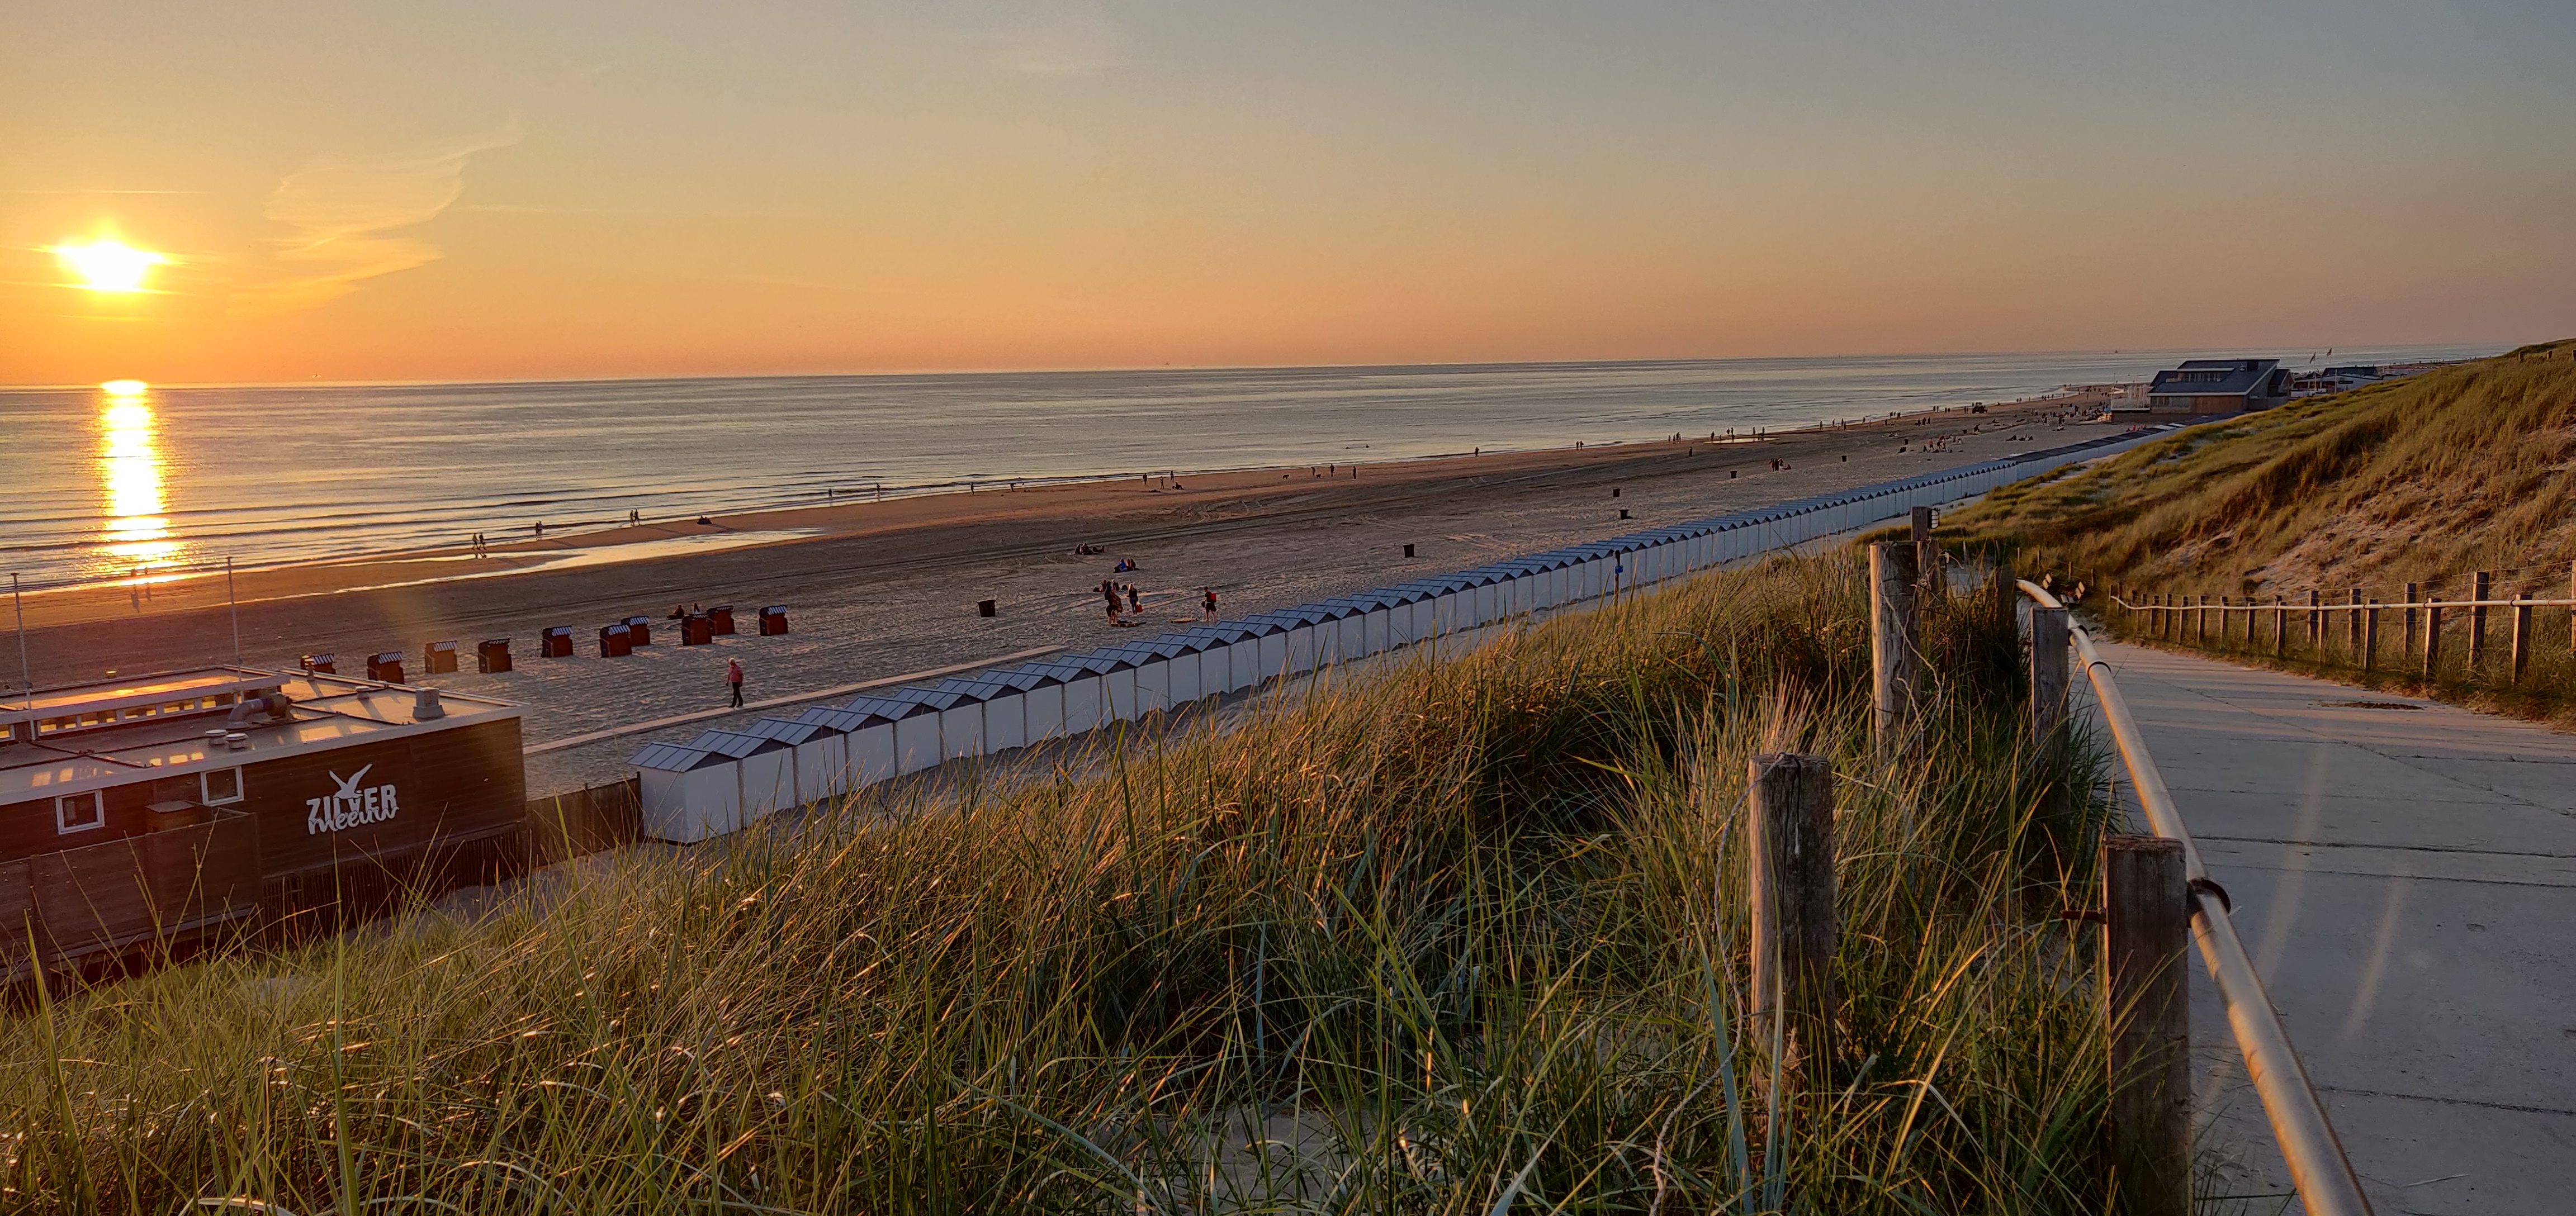pad: (1971, 573, 2576, 1198)
